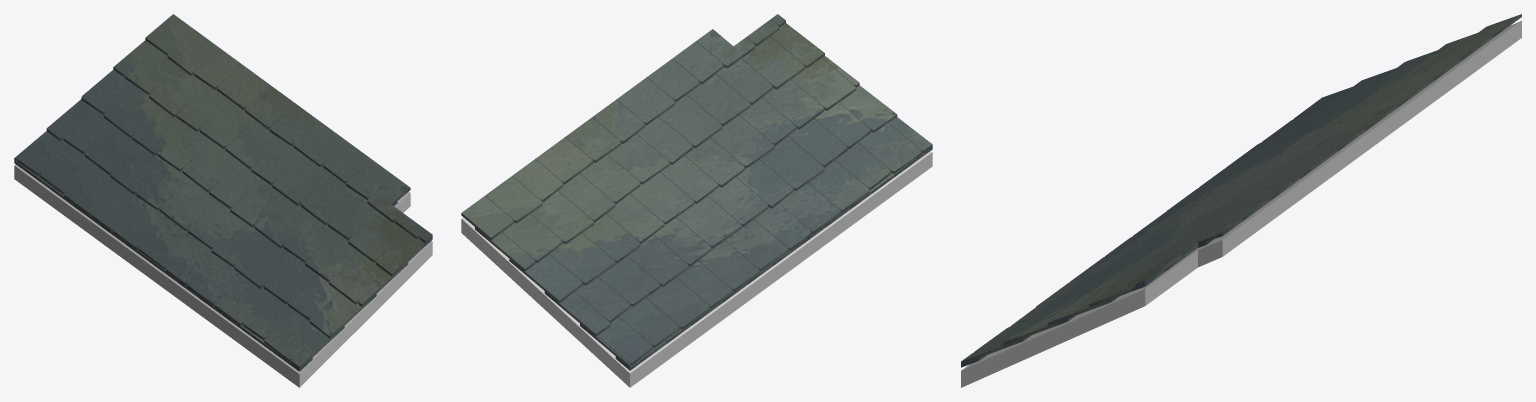
File: CM_SlateRoofKit01_Fitted_DisplayCatslide.fbx
The picture shows the model from 3 angles, left to right: view 1: azimuth 30°, elevation 25°; view 2: azimuth 150°, elevation 25°; view 3: azimuth 330°, elevation 25°; orthographic projection. The views are drawn at different scales.
Visible parts, largest first — view 1: CM_SlateRoofKit01_Fitted_DisplayCatslide_Slate, CM_SlateRoofKit01_Fitted_DisplayCatslide_Underlay; view 2: CM_SlateRoofKit01_Fitted_DisplayCatslide_Slate, CM_SlateRoofKit01_Fitted_DisplayCatslide_Underlay; view 3: CM_SlateRoofKit01_Fitted_DisplayCatslide_Slate, CM_SlateRoofKit01_Fitted_DisplayCatslide_Underlay.
Boxes of the visible parts, x1,y1,x2,y2 form: CM_SlateRoofKit01_Fitted_DisplayCatslide_Slate: (14,14,432,371); CM_SlateRoofKit01_Fitted_DisplayCatslide_Underlay: (14,164,432,387); CM_SlateRoofKit01_Fitted_DisplayCatslide_Slate: (461,14,932,370); CM_SlateRoofKit01_Fitted_DisplayCatslide_Underlay: (461,151,932,387); CM_SlateRoofKit01_Fitted_DisplayCatslide_Slate: (961,14,1521,367); CM_SlateRoofKit01_Fitted_DisplayCatslide_Underlay: (961,21,1521,387).
Bounding box in the file's own units: 1.22 × 0.9259 × 3.79.
